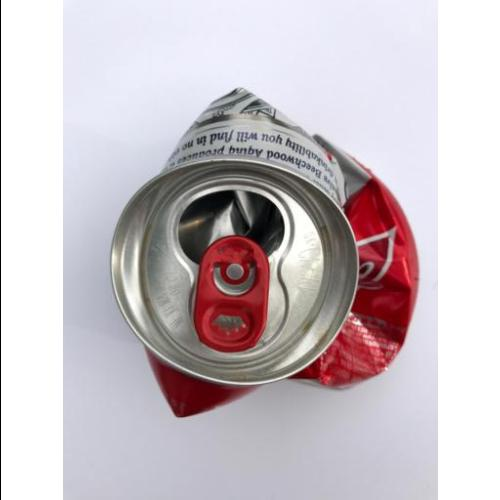metal: (110, 99, 416, 411)
